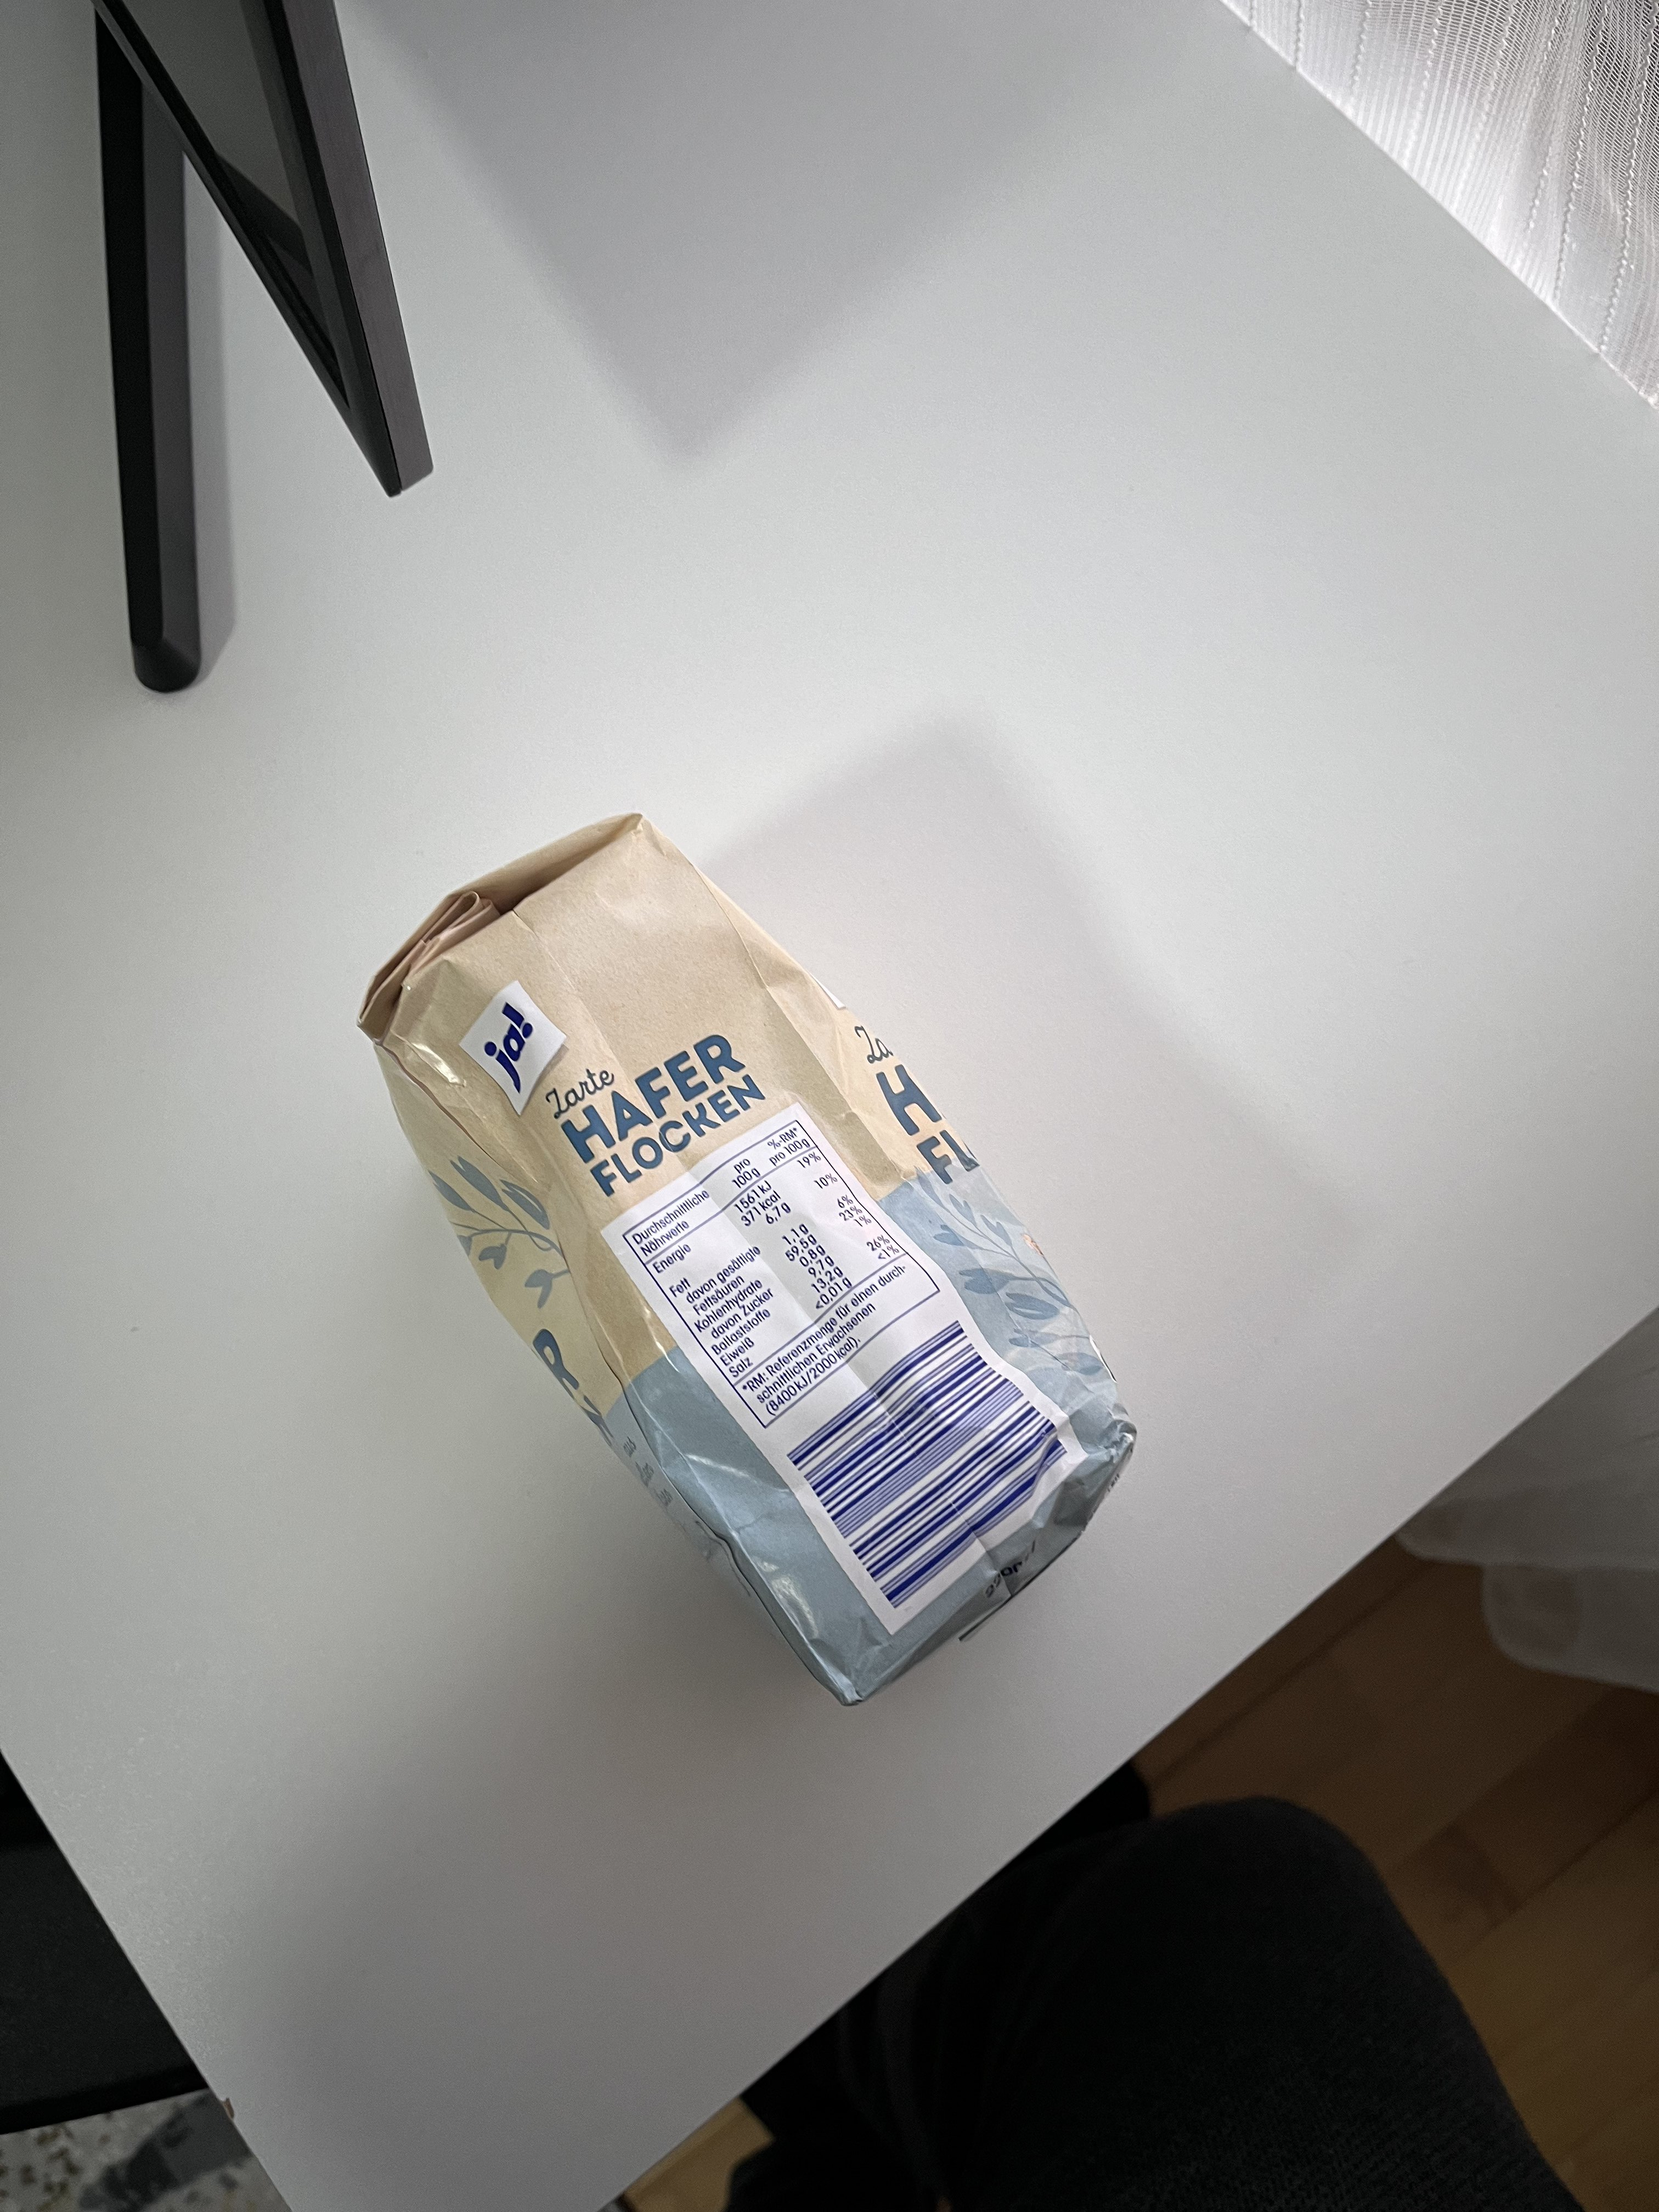haferflocken_ja: (357, 812, 1140, 1705)
